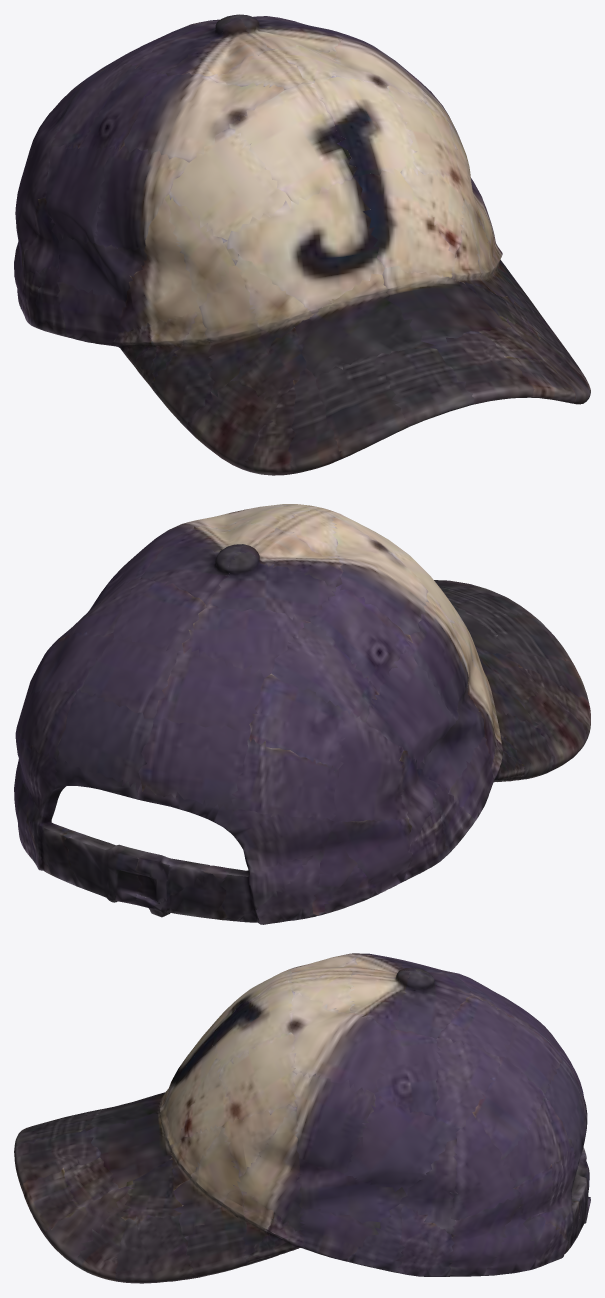
Rendered from boneapocaliptico_otimizado.glb.
3 renders of one model, top to bottom at view 1: azimuth 30°, elevation 25°; view 2: azimuth 150°, elevation 25°; view 3: azimuth 270°, elevation 25°, orthographic. The views are drawn at different scales.
Visible parts, largest first — view 1: Mesh_0; view 2: Mesh_0; view 3: Mesh_0.
Part boxes in pixels (x1,y1,x2,y2): Mesh_0: (14, 14, 590, 475); Mesh_0: (14, 504, 590, 924); Mesh_0: (14, 953, 590, 1283).
Bounding box in the file's own units: 1.33 × 0.8941 × 1.9.
1 material, 1 textured.
